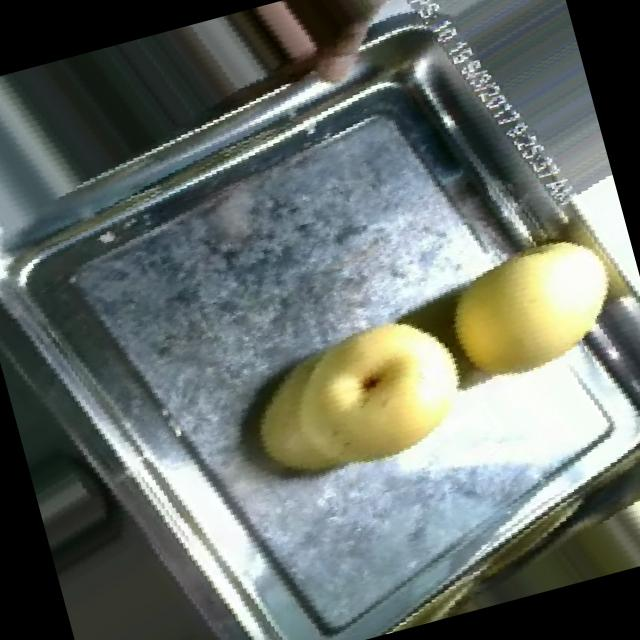Fruit: (205, 274, 510, 532), (412, 200, 640, 412)
